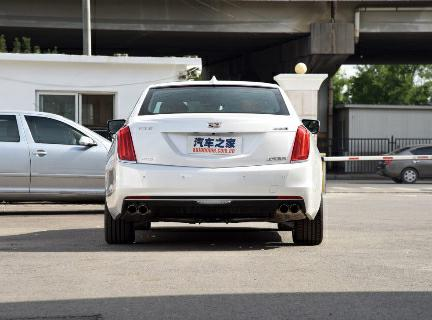凯迪拉克-CT6: (97, 74, 336, 258)
